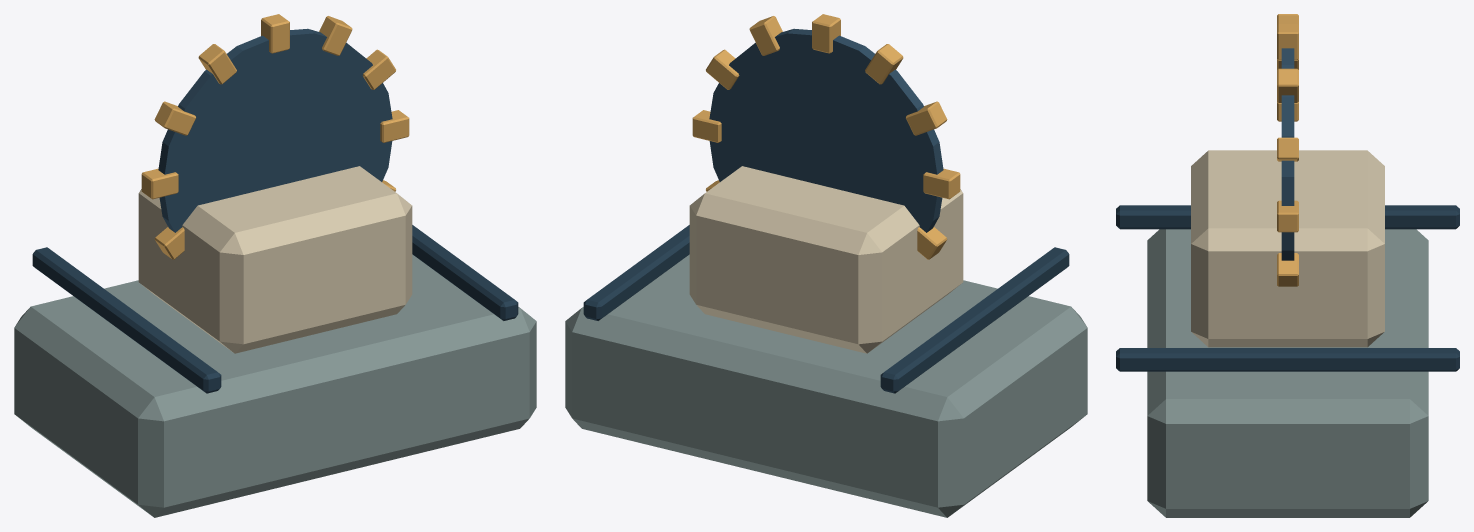
Rendered from stonecutter.glb.
The picture shows the model from 3 angles, left to right: view 1: azimuth 30°, elevation 25°; view 2: azimuth 150°, elevation 25°; view 3: azimuth 270°, elevation 25°; orthographic projection.
Visible parts, largest first — view 1: bed, saw; view 2: bed, saw; view 3: bed, saw.
Part boxes in pixels (left/top/right/bottom): bed: left=14, top=166, right=536, bottom=517; saw: left=141, top=14, right=409, bottom=259; bed: left=565, top=166, right=1087, bottom=517; saw: left=692, top=14, right=960, bottom=259; bed: left=1116, top=150, right=1459, bottom=517; saw: left=1277, top=14, right=1298, bottom=286.
Size of the model in its own units: 1.45 by 1.42 by 1.1.
